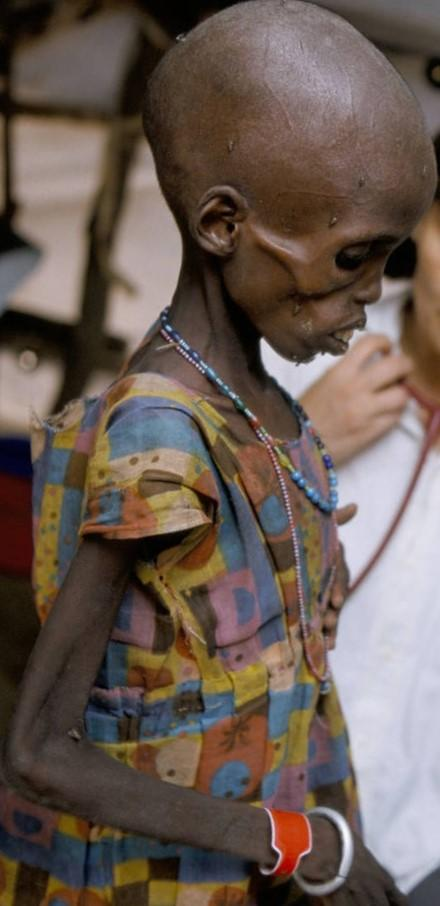Stunting: (135, 20, 430, 390)
